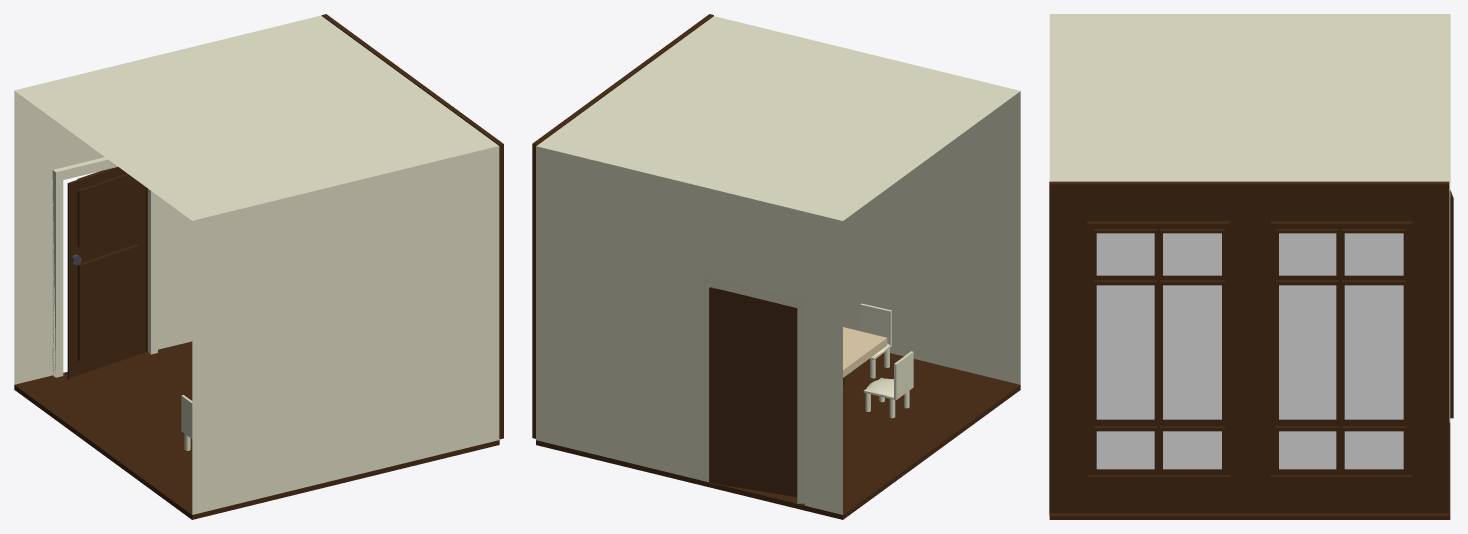
Rendered from Depa Alo.glb.
3 renders of one model, left to right at view 1: azimuth 30°, elevation 25°; view 2: azimuth 150°, elevation 25°; view 3: azimuth 270°, elevation 25°, orthographic. The views are drawn at different scales.
Parts seen in each view (by area): view 1: Cube.017, Cube.018, Cube.019, Cube.016, Cube.014, Cube.001; view 2: Cube.017, Cube.018, Cube.016, Cube.019, Cube.015, Cube.014, Cube.001, Cubo, Cubo.013, Cubo.023, Cubo.022; view 3: Cube.001, Cube.017, Cube.021, Cube.007, Cube.009, Cube.020, Cube.002, Cube.006, Cube.008, Cube.004, Cube.013, Cube.011 (+5 smaller).
Part boxes in pixels (x1,y1,x2,y2): Cube.017: (14,15,499,514); Cube.018: (14,17,313,384); Cube.019: (67,167,147,379); Cube.016: (14,341,192,514); Cube.014: (14,385,499,519); Cube.001: (321,14,503,439); Cube.017: (536,16,1020,384); Cube.018: (536,146,842,514); Cube.016: (727,353,1019,514); Cube.019: (709,287,797,496); Cube.015: (709,300,797,497); Cube.014: (536,385,1020,519); Cube.001: (532,14,713,438); Cubo: (843,327,887,377); Cubo.013: (860,303,891,346); Cubo.023: (894,351,913,399); Cubo.022: (863,378,895,418); Cube.001: (1049,181,1449,515); Cube.017: (1049,14,1450,182); Cube.021: (1344,285,1403,419); Cube.007: (1163,285,1221,419); Cube.009: (1096,285,1154,419); Cube.020: (1279,285,1336,419); Cube.002: (1344,233,1403,275); Cube.006: (1163,233,1221,275); Cube.008: (1096,233,1154,275); Cube.004: (1279,233,1336,275); Cube.013: (1344,431,1403,469); Cube.011: (1163,431,1221,469).
Bounding box in the file's own units: 10.01 × 9.21 × 9.98.
